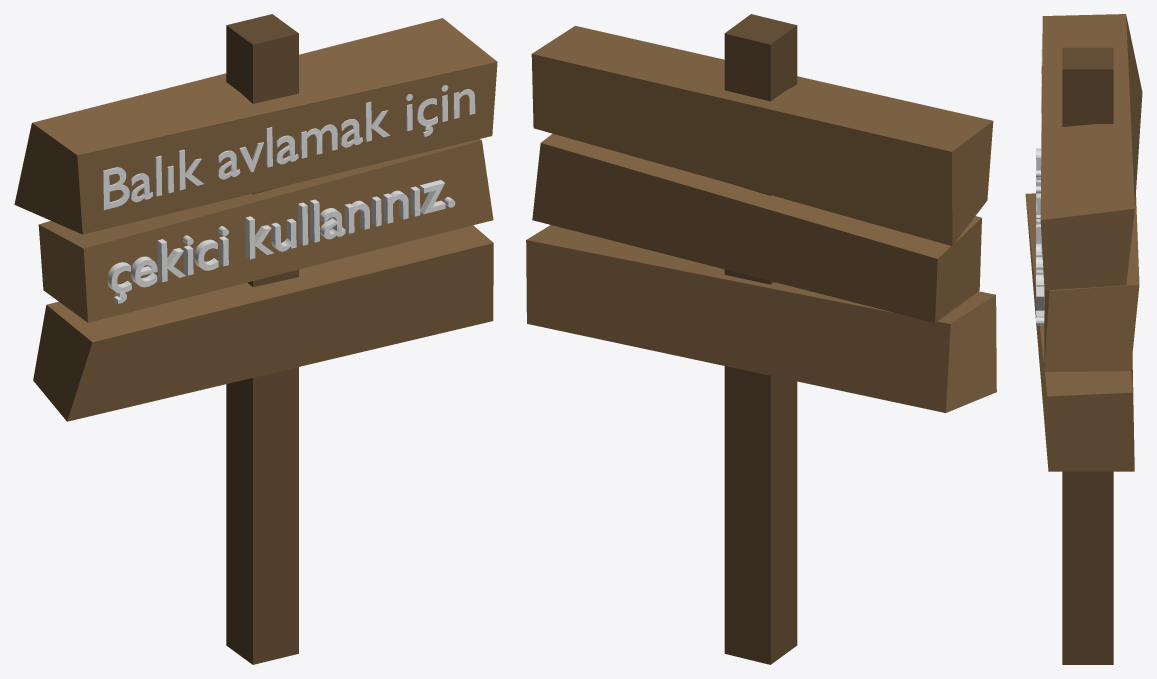
Rendered from signcekic.fbx.
3 renders of one model, left to right at view 1: azimuth 30°, elevation 25°; view 2: azimuth 150°, elevation 25°; view 3: azimuth 270°, elevation 25°, orthographic. The views are drawn at different scales.
Visible parts, largest first — view 1: Cube.001, Cube.003, Cube.002, Cube, Text; view 2: Cube.001, Cube.003, Cube.002, Cube; view 3: Cube.001, Cube, Cube.003, Cube.002, Text.
Boxes of the visible parts, bbox=[...] form: Cube.001: bbox=[14, 18, 497, 234]; Cube.003: bbox=[33, 225, 493, 421]; Cube.002: bbox=[38, 139, 493, 322]; Cube: bbox=[226, 14, 298, 664]; Text: bbox=[102, 85, 475, 303]; Cube.001: bbox=[531, 25, 993, 245]; Cube.003: bbox=[526, 225, 996, 412]; Cube.002: bbox=[532, 133, 981, 322]; Cube: bbox=[724, 14, 797, 664]; Cube.001: bbox=[1040, 14, 1142, 290]; Cube: bbox=[1062, 47, 1113, 664]; Cube.003: bbox=[1025, 193, 1134, 471]; Cube.002: bbox=[1044, 195, 1139, 371]; Text: bbox=[1036, 49, 1044, 325].
Size of the model in its own units: 198 by 272 by 48.44.
